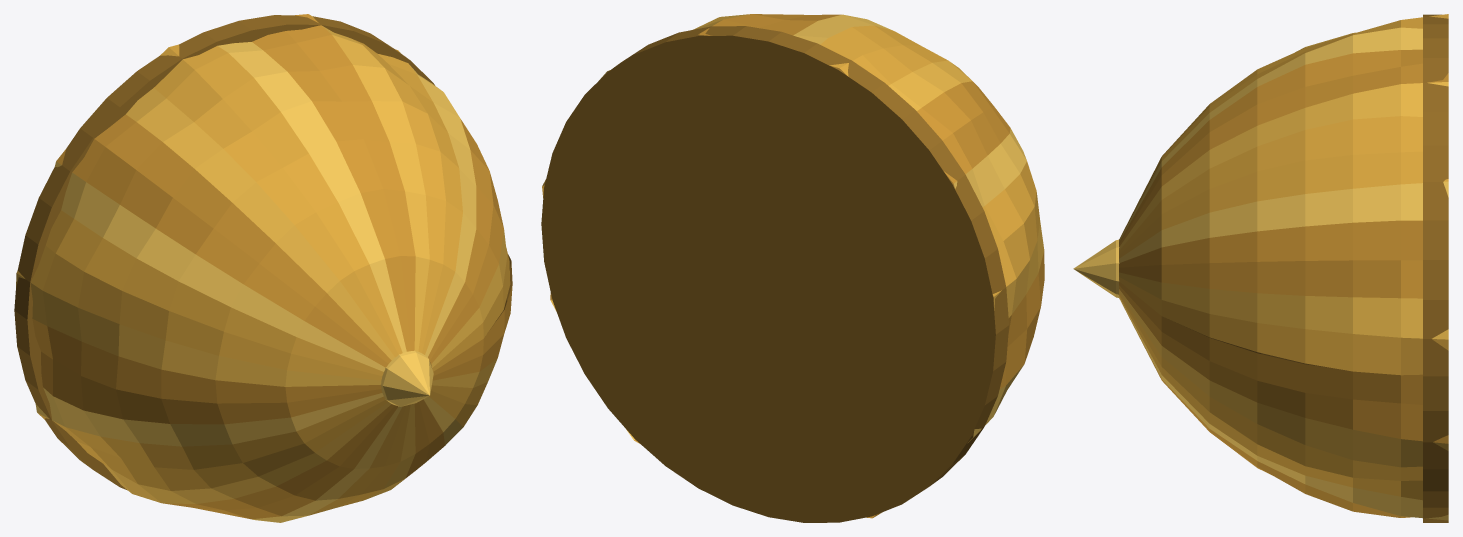
File: meule.glb
3 renders of one model, left to right at view 1: azimuth 30°, elevation 25°; view 2: azimuth 150°, elevation 25°; view 3: azimuth 270°, elevation 25°, orthographic. The views are drawn at different scales.
Visible parts, largest first — view 1: ceinture, touche.015, touche.014, touche.016, touche.017, touche.012, touche.013, touche.011, touche.018, touche.019, touche.010, touche.020 (+30 smaller); view 2: ceinture, coeur, touche.015, touche.014, touche.016, touche.017, touche.013, touche.012, touche.011, touche.018, touche.020, touche.019 (+4 smaller); view 3: ceinture, touche.003, touche.002, touche.001, touche, touche.004, touche.005, touche.006, touche.039, touche.038, touche.037, touche.007 (+10 smaller).
Boxes of the visible parts, x1,y1,x2,y2 form: ceinture: [14, 15, 434, 490]; touche.015: [56, 139, 388, 367]; touche.014: [94, 114, 391, 363]; touche.016: [54, 161, 385, 371]; touche.017: [45, 210, 383, 375]; touche.012: [154, 47, 398, 357]; touche.013: [126, 88, 394, 360]; touche.011: [169, 44, 402, 354]; touche.018: [16, 246, 382, 380]; touche.019: [16, 273, 381, 386]; touche.010: [217, 42, 406, 352]; touche.020: [32, 319, 381, 403]; ceinture: [541, 26, 1008, 522]; coeur: [553, 49, 982, 510]; touche.015: [943, 107, 1010, 183]; touche.014: [917, 81, 994, 140]; touche.016: [953, 128, 1026, 207]; touche.017: [982, 161, 1036, 245]; touche.013: [888, 60, 972, 110]; touche.012: [839, 45, 947, 85]; touche.011: [820, 25, 920, 67]; touche.018: [992, 192, 1040, 296]; touche.020: [1007, 251, 1044, 346]; touche.019: [994, 221, 1044, 317]; ceinture: [1423, 14, 1448, 522]; touche.003: [1119, 220, 1422, 267]; touche.002: [1119, 260, 1422, 298]; touche.001: [1119, 272, 1448, 339]; touche: [1119, 277, 1448, 375]; touche.004: [1119, 181, 1448, 262]; touche.005: [1119, 151, 1448, 258]; touche.006: [1119, 116, 1422, 254]; touche.039: [1119, 281, 1422, 404]; touche.038: [1119, 285, 1448, 443]; touche.037: [1119, 289, 1448, 467]; touche.007: [1119, 82, 1448, 250].
Bounding box in the file's own units: 3.57 × 3.57 × 2.64.
